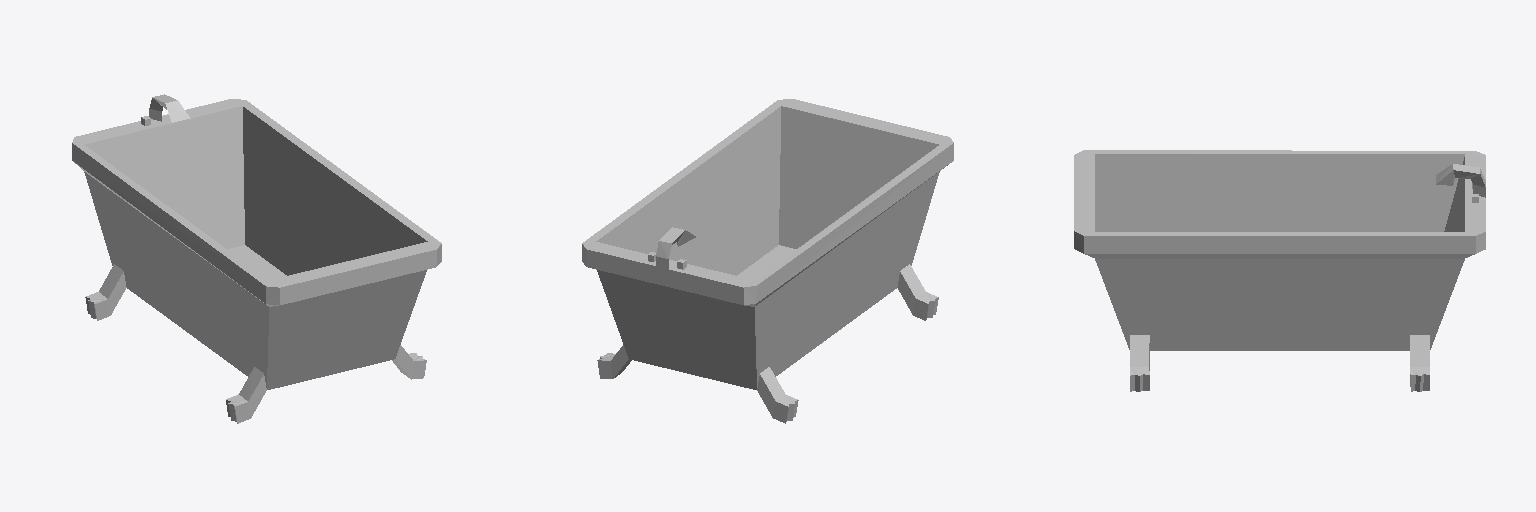
The model's file is tub.obj.
The picture shows the model from 3 angles: view 1: azimuth 30°, elevation 25°; view 2: azimuth 150°, elevation 25°; view 3: azimuth 270°, elevation 25°; orthographic projection.
Parts seen in each view (by area): view 1: group[number redacted], group[number redacted], group[number redacted], group[number redacted], group[number redacted]; view 2: group[number redacted], group[number redacted], group[number redacted], group[number redacted], group[number redacted]; view 3: group[number redacted], group[number redacted], group[number redacted], group[number redacted].
Boxes of the visible parts, <box> form: group[number redacted]: <box>72,99,441,389</box>; group[number redacted]: <box>226,367,266,423</box>; group[number redacted]: <box>85,264,126,320</box>; group[number redacted]: <box>149,94,190,122</box>; group[number redacted]: <box>392,345,426,379</box>; group[number redacted]: <box>582,99,953,389</box>; group[number redacted]: <box>757,367,798,423</box>; group[number redacted]: <box>897,264,938,320</box>; group[number redacted]: <box>656,227,695,268</box>; group[number redacted]: <box>597,345,631,378</box>; group[number redacted]: <box>1074,150,1485,350</box>; group[number redacted]: <box>1130,335,1149,391</box>; group[number redacted]: <box>1410,335,1429,391</box>; group[number redacted]: <box>1436,164,1485,197</box>.
Bounding box in the file's own units: 0.9173 × 0.8117 × 1.68.